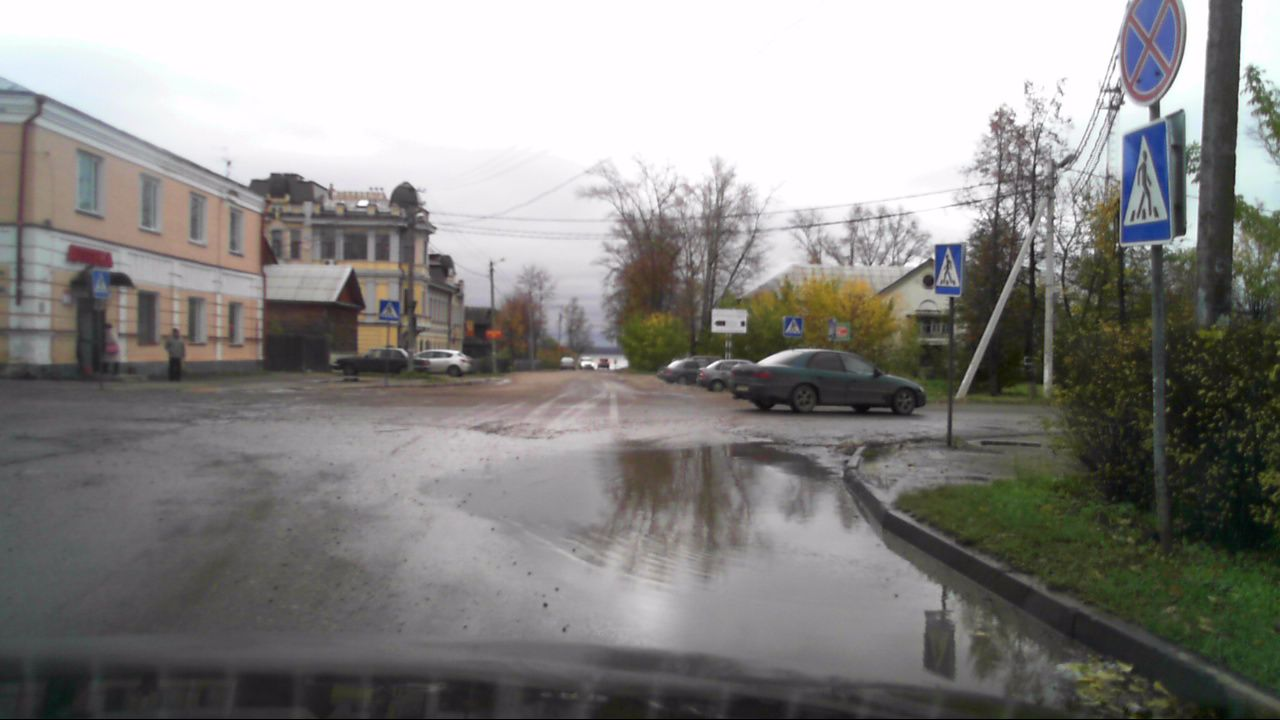No Parking: (1120, 0, 1188, 107)
